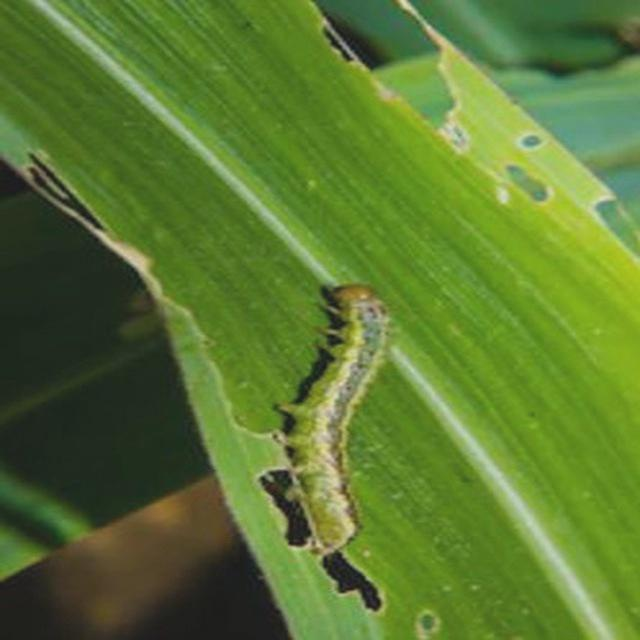gusano_cogollero: (272, 278, 396, 558)
